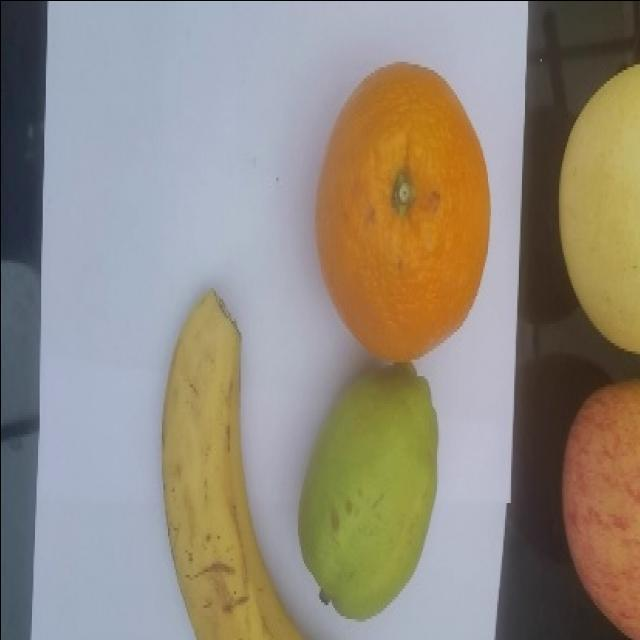Apple: (560, 377, 639, 639)
Banana: (161, 287, 303, 639)
Orange: (313, 60, 491, 363)
